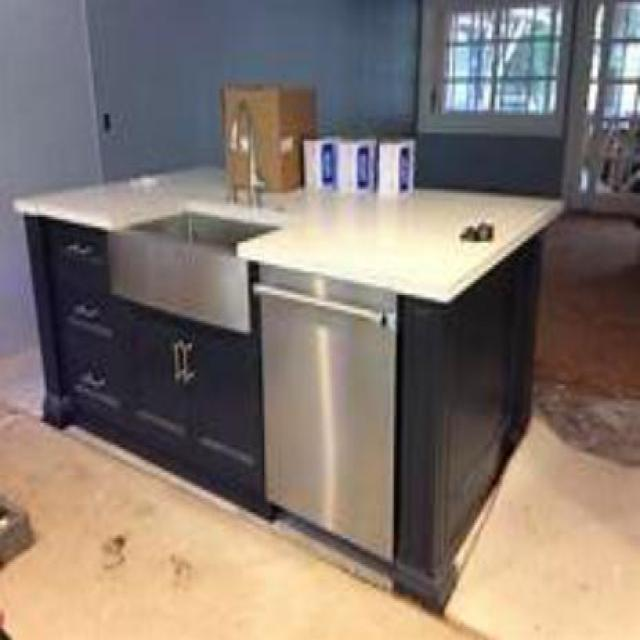dishwasher: (255, 262, 392, 564)
